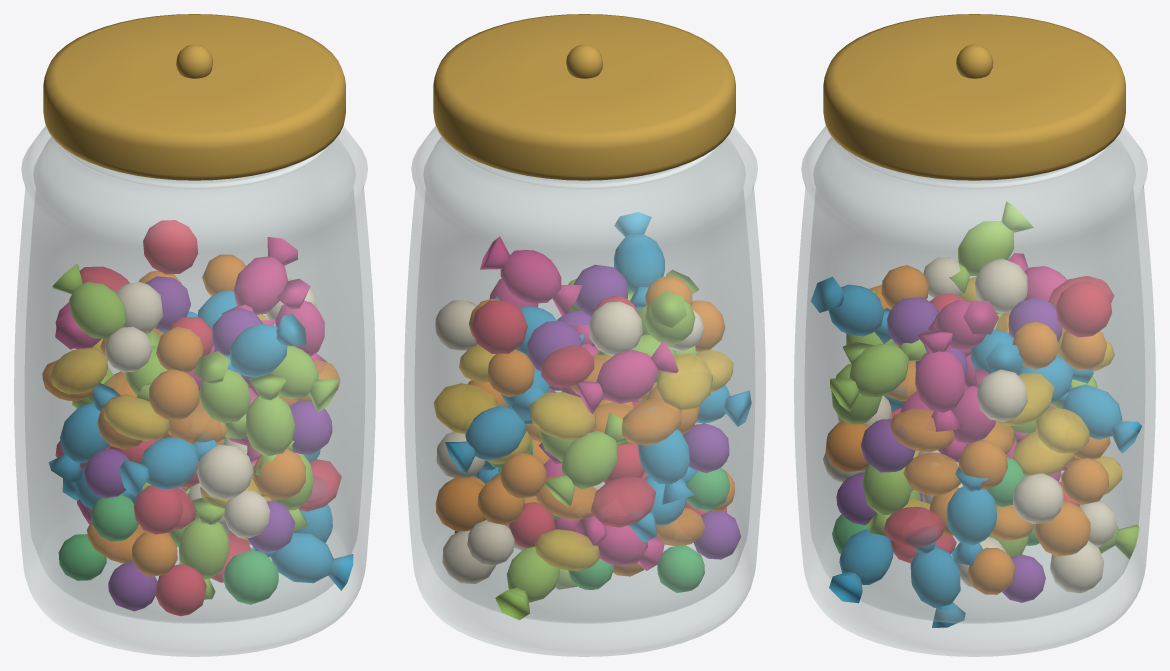
The model's file is bocal-bonbons-verre.glb.
3 views of the same model, side by side, from view 1: azimuth 30°, elevation 25°; view 2: azimuth 150°, elevation 25°; view 3: azimuth 270°, elevation 25° (orthographic).
Parts seen in each view (by area): view 1: bocal-bonbons-verre; view 2: bocal-bonbons-verre; view 3: bocal-bonbons-verre.
Boxes of the visible parts, x1,y1,x2,y2 form: bocal-bonbons-verre: [14, 14, 375, 656]; bocal-bonbons-verre: [404, 14, 765, 656]; bocal-bonbons-verre: [794, 14, 1155, 656].
Bounding box in the file's own units: 0.12 × 0.2 × 0.12.
